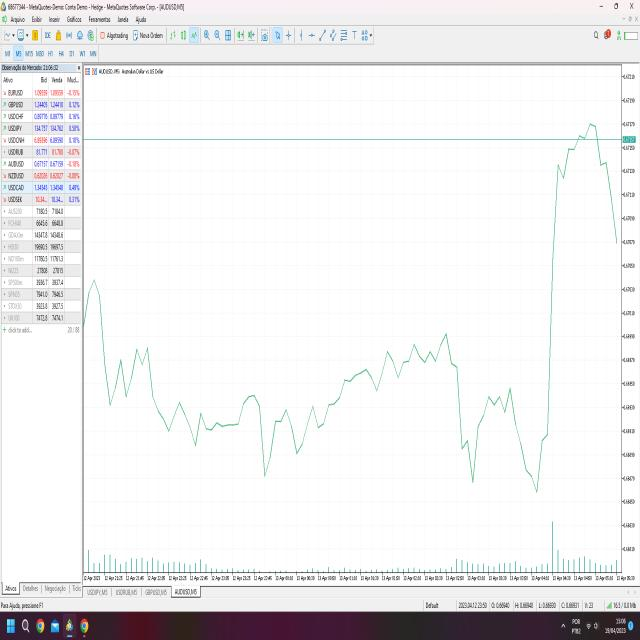fundo_duplo: (448, 359, 562, 518)
